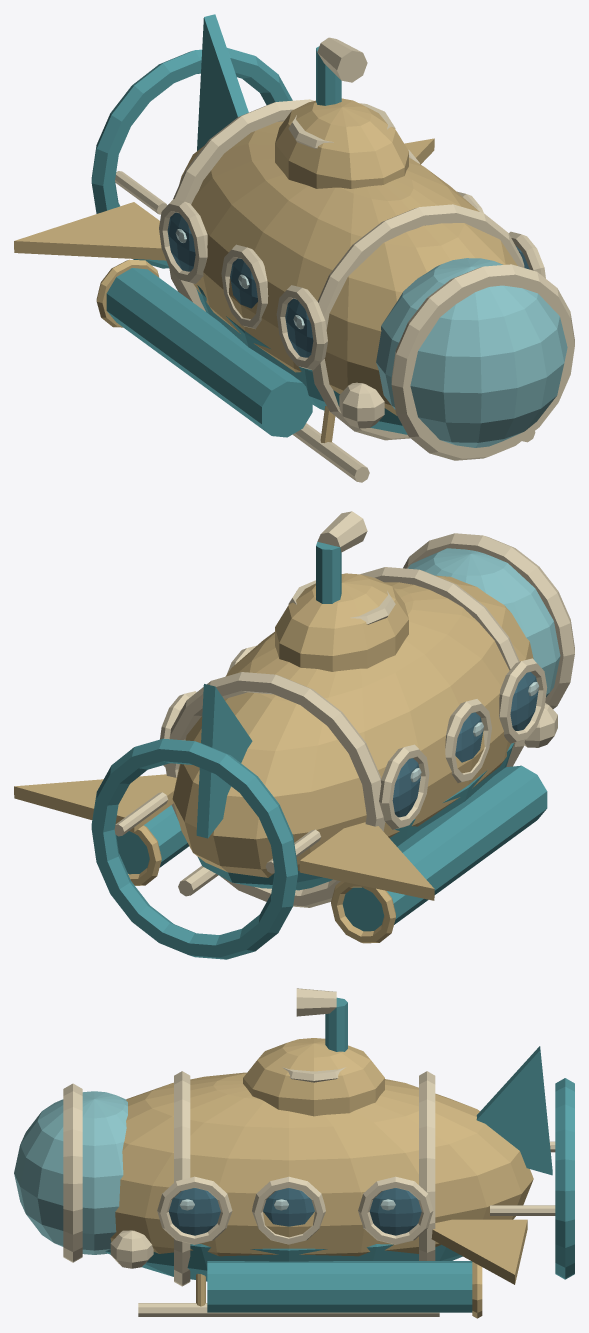
The model's file is submarine.glb.
3 views of the same model, one above another, from view 1: azimuth 30°, elevation 25°; view 2: azimuth 150°, elevation 25°; view 3: azimuth 270°, elevation 25° (orthographic). The views are drawn at different scales.
Visible parts, largest first — view 1: submarine; view 2: submarine; view 3: submarine.
Part boxes in pixels (x1=…): submarine: x1=14, y1=14, x2=574, y2=482; submarine: x1=14, y1=511, x2=574, y2=959; submarine: x1=14, y1=988, x2=574, y2=1318.
Size of the model in its own units: 3.3 by 2.58 by 4.47.
